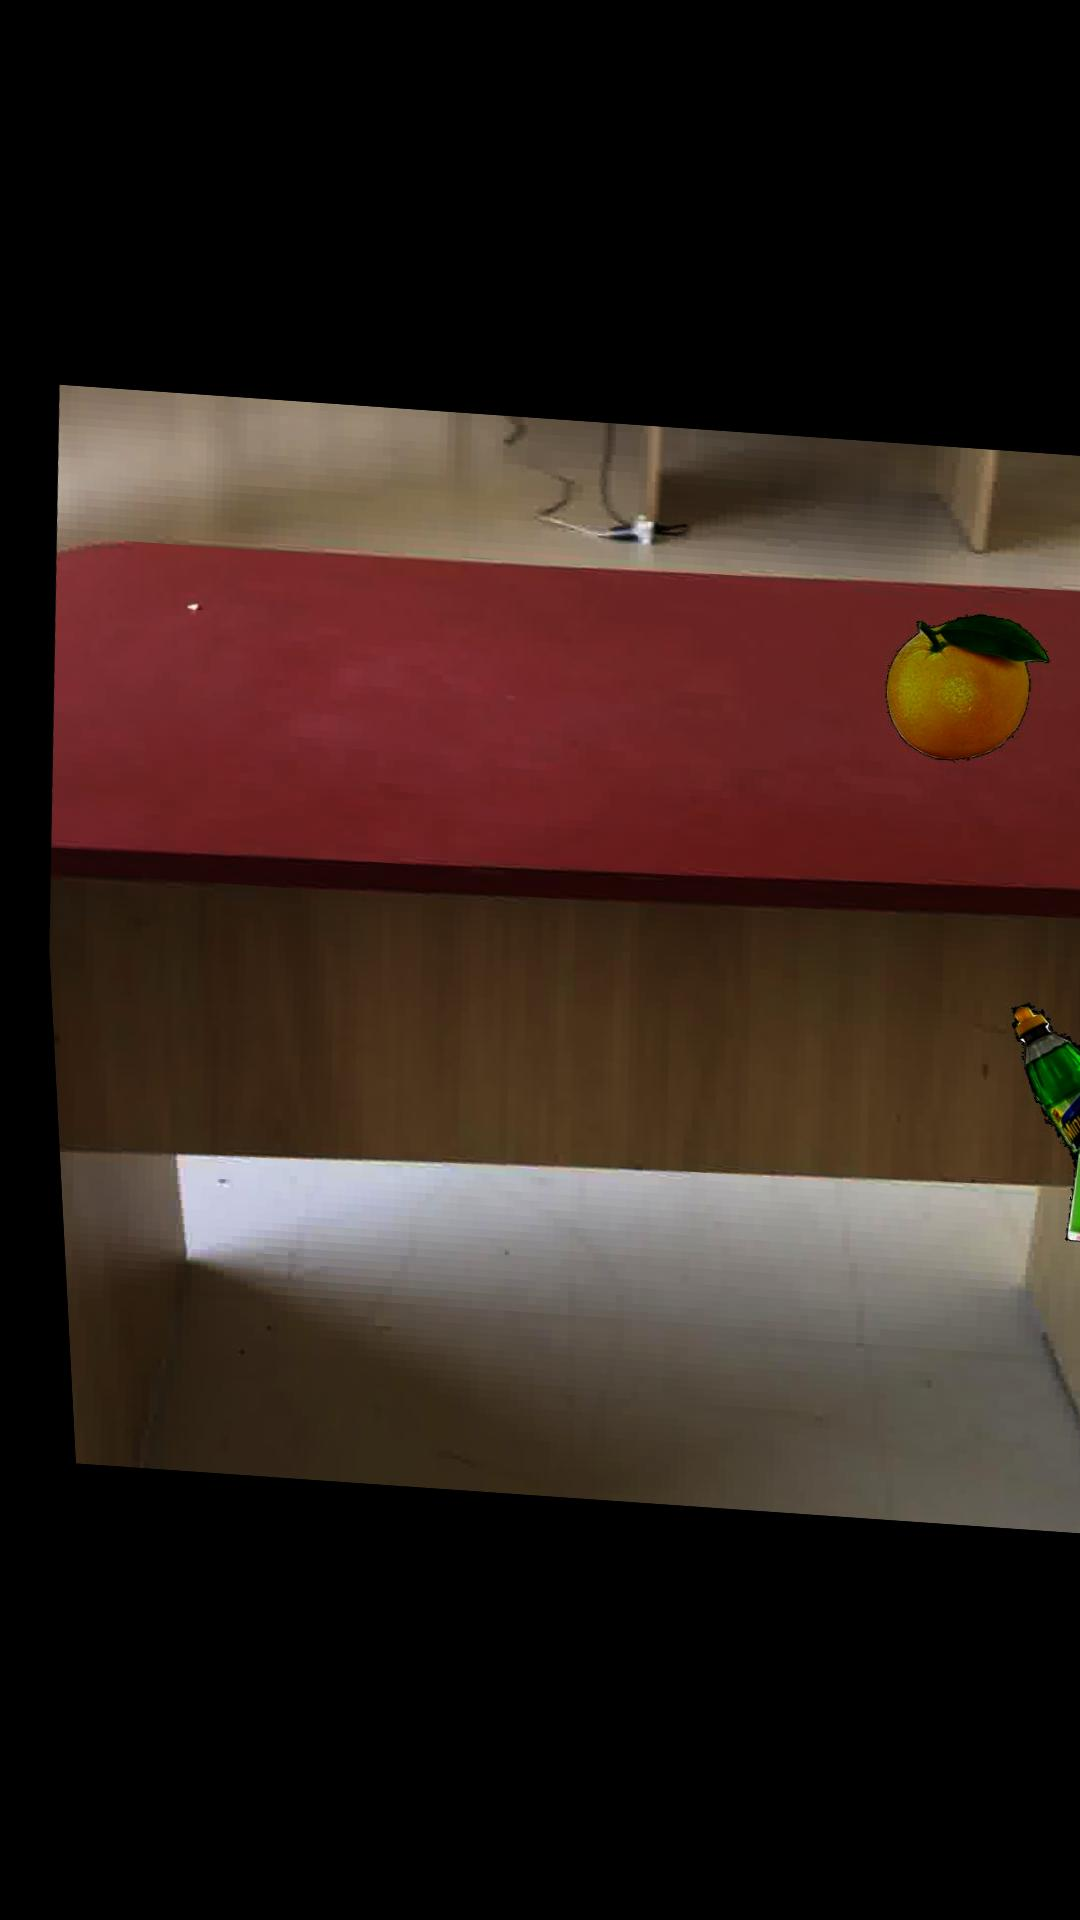cleaner: (998, 1004, 1080, 1163)
orange: (876, 615, 1040, 761)
pringles: (1050, 1026, 1080, 1245)
